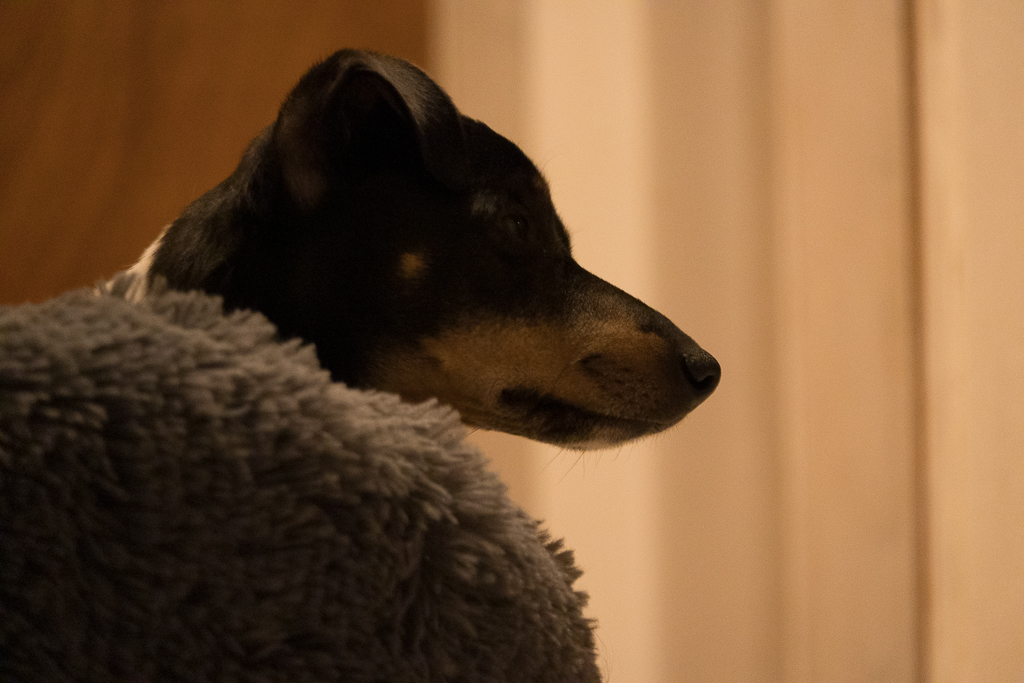Dog: (65, 34, 727, 476)
